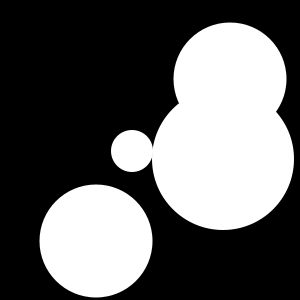rectangle: (152, 88, 294, 230), (174, 22, 286, 136), (40, 184, 152, 298), (111, 130, 153, 172), (77, 262, 91, 276)
